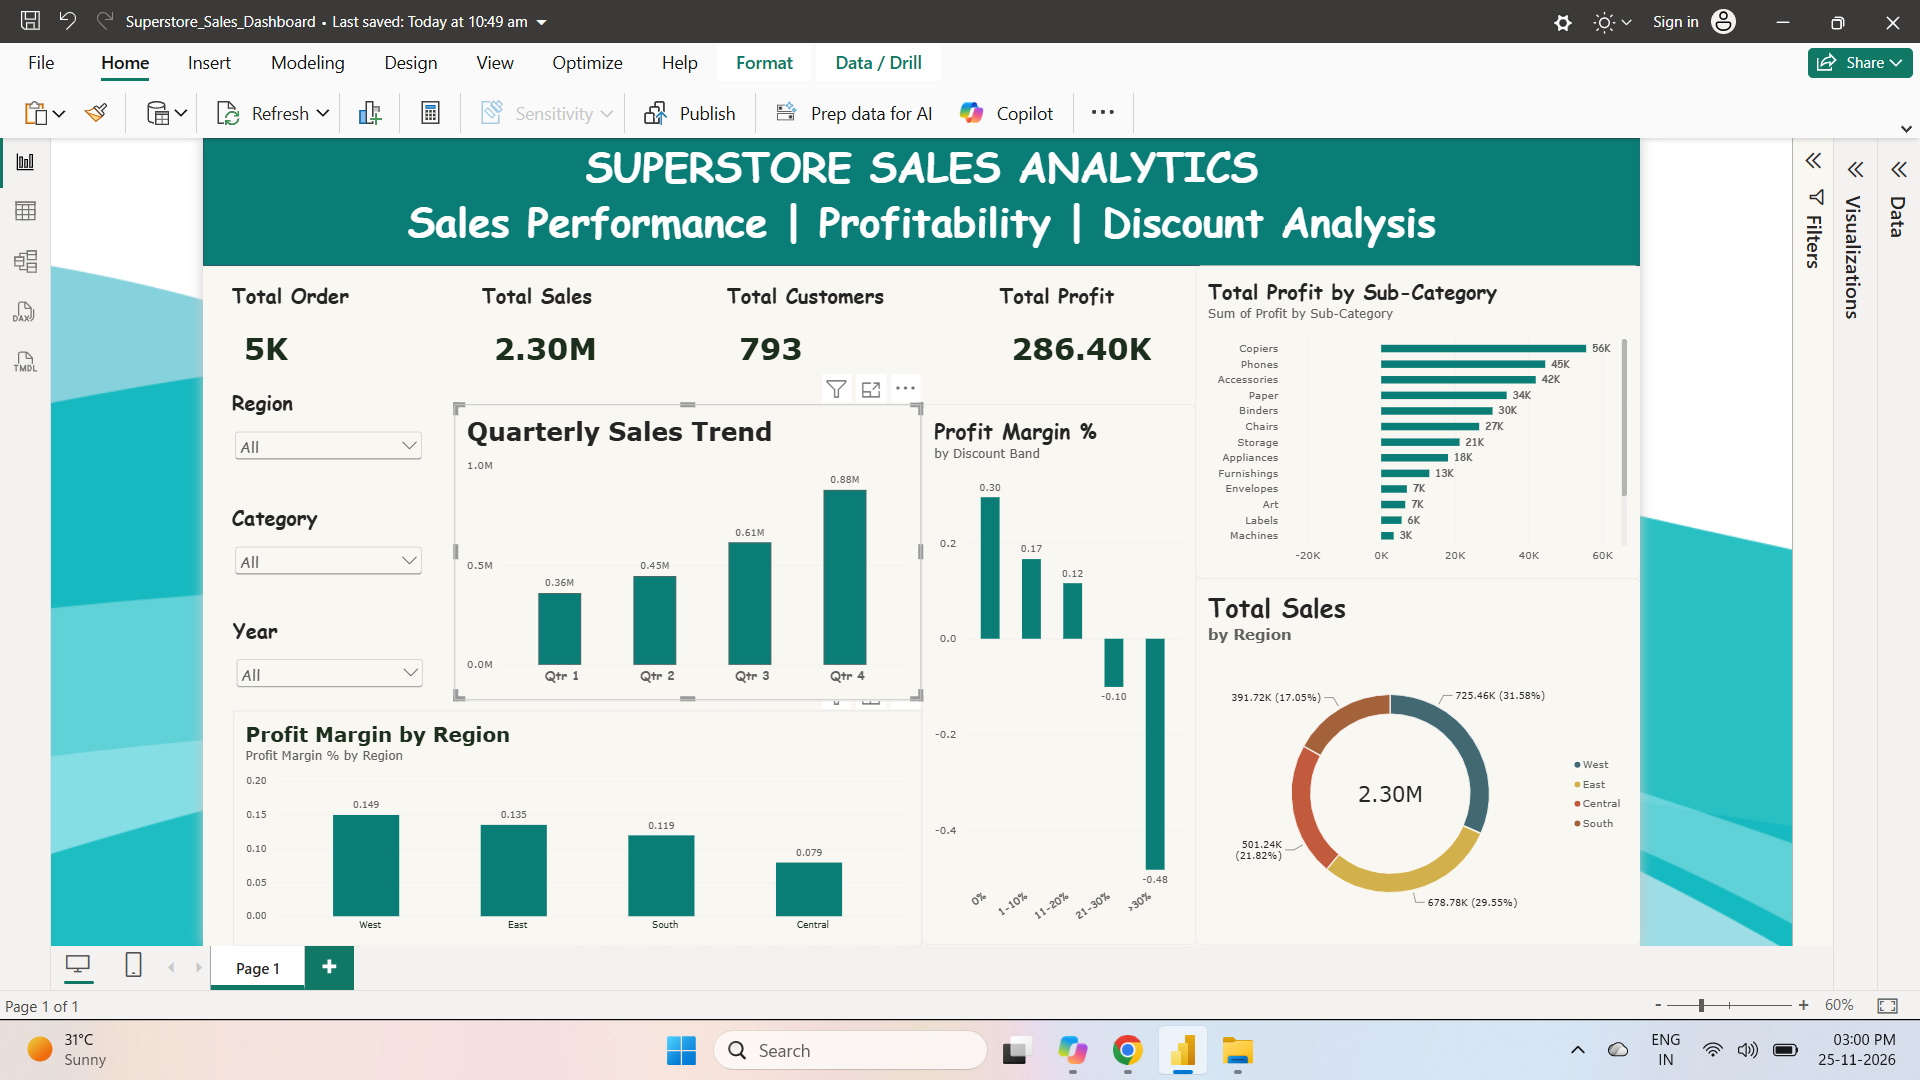

What the dashboard file says about the page in this screenshot:
{"tool":"powerbi","page":{"name":"Page 1","canvas":[1920,1080],"ordinal":0},"visuals":[{"type":"shape","box":[0,0,1920.4,170.8],"z":0},{"type":"textbox","box":[0,0,1920.4,170.8],"z":1000},{"type":"cardVisual","title":"Total Sales","fields":{"Data":["Sum(Analysis_Ready_Superstore.Sales)"]},"box":[372,190,248,128],"z":2000},{"type":"cardVisual","title":"Total Customers","fields":{"Data":["Analysis_Ready_Superstore.Total Customers"]},"box":[700,190,296,128],"z":3000},{"type":"cardVisual","title":"Total Order","fields":{"Data":["Analysis_Ready_Superstore.Total Orders"]},"box":[38,190,258,128],"z":4000},{"type":"cardVisual","title":"Total Profit ","fields":{"Data":["Analysis_Ready_Superstore.Total Profit"]},"box":[1064,190,262,128],"z":5000},{"type":"slicer","title":"Region","fields":{"Values":["Analysis_Ready_Superstore.Region"]},"box":[38.3,333.3,258.3,101.7],"z":6000},{"type":"slicer","title":"Category","fields":{"Values":["Analysis_Ready_Superstore.Category"]},"box":[38.3,488.3,258.3,101.7],"z":7000},{"type":"slicer","title":"Year","fields":{"Values":["Analysis_Ready_Superstore.Order Date.Variation.Date Hierarchy.Year"]},"box":[40,638.3,258.3,101.7],"z":8000},{"type":"clusteredColumnChart","title":"Quarterly Sales Trend","fields":{"Category":["Analysis_Ready_Superstore.Order Date.Variation.Date Hierarchy.Quarter"],"Y":["Sum(Analysis_Ready_Superstore.Sales)"]},"box":[335,355,625,396.7],"z":8001},{"type":"clusteredColumnChart","title":"Profit Margin by Region","fields":{"Category":["Analysis_Ready_Superstore.Region"],"Y":["Analysis_Ready_Superstore.Profit Margin %"]},"box":[40,764,920,316],"z":8002},{"type":"clusteredBarChart","title":"Total Profit by Sub-Category","fields":{"Category":["Analysis_Ready_Superstore.Sub-Category"],"Y":["Sum(Analysis_Ready_Superstore.Profit)"]},"box":[1326,170,594,418],"z":8003},{"type":"donutChart","title":"Total Sales","fields":{"Category":["Analysis_Ready_Superstore.Region"],"Y":["Sum(Analysis_Ready_Superstore.Sales)"]},"box":[1326,588,594,490],"z":8004},{"type":"clusteredColumnChart","fields":{"Category":["Analysis_Ready_Superstore.Discount Band"],"Y":["Analysis_Ready_Superstore.Profit Margin %"]},"box":[960,356,366,722],"z":8005}]}

Visuals, with their boxes on the page's 1920x1080 design canvas (x1, y1, x2, y2). These are canvas units, not pixel positions in the 1920x1080 screenshot, which may show the page scaled, cropped or inside an application window:
shape: bbox(0, 0, 1920, 171)
textbox: bbox(0, 0, 1920, 171)
"Total Sales" cardVisual: bbox(372, 190, 620, 318)
"Total Customers" cardVisual: bbox(700, 190, 996, 318)
"Total Order" cardVisual: bbox(38, 190, 296, 318)
"Total Profit " cardVisual: bbox(1064, 190, 1326, 318)
"Region" slicer: bbox(38, 333, 297, 435)
"Category" slicer: bbox(38, 488, 297, 590)
"Year" slicer: bbox(40, 638, 298, 740)
"Quarterly Sales Trend" clusteredColumnChart: bbox(335, 355, 960, 752)
"Profit Margin by Region" clusteredColumnChart: bbox(40, 764, 960, 1080)
"Total Profit by Sub-Category" clusteredBarChart: bbox(1326, 170, 1920, 588)
"Total Sales" donutChart: bbox(1326, 588, 1920, 1078)
clusteredColumnChart - Analysis_Ready_Superstore.Discount Band x Analysis_Ready_Superstore.Profit Margin %: bbox(960, 356, 1326, 1078)
